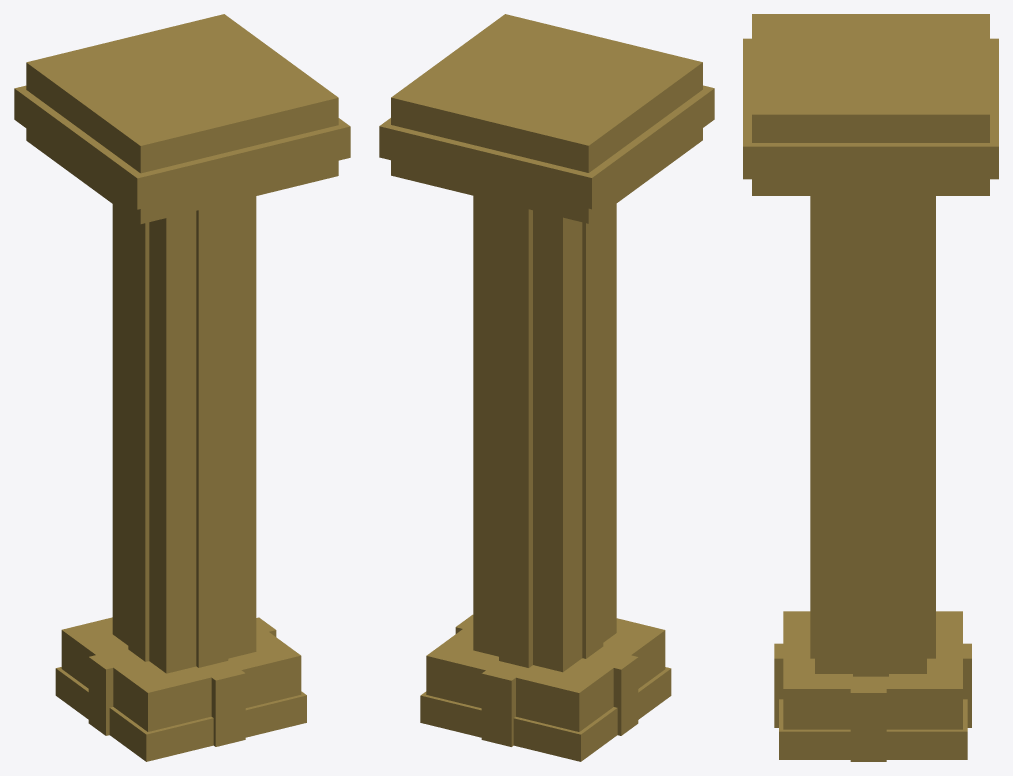
The model's file is pillar.glb.
The picture shows the model from 3 angles, left to right: view 1: azimuth 30°, elevation 25°; view 2: azimuth 150°, elevation 25°; view 3: azimuth 270°, elevation 25°; orthographic projection. The views are drawn at different scales.
Parts seen in each view (by area): view 1: group1297642777, group1275694087, group1459291806, group369833964, group539515395, group1515042559, group1484499727, group1540094723, group1602598966; view 2: group1297642777, group1275694087, group420840496, group369833964, group539515395, group1515042559, group1484499727, group2096583948, group1602598966; view 3: group1297642777, group1275694087, group147822322, group539515395, group369833964, group1484499727, group420840496, group20163112, group1459291806, group1540094723, group2096583948.
Part boxes in pixels (bbox=[...]): group1297642777: bbox=[112, 196, 256, 673]; group1275694087: bbox=[26, 14, 338, 224]; group1459291806: bbox=[196, 203, 228, 667]; group369833964: bbox=[14, 85, 350, 209]; group539515395: bbox=[61, 617, 301, 731]; group1515042559: bbox=[128, 215, 149, 661]; group1484499727: bbox=[55, 667, 306, 761]; group1540094723: bbox=[203, 670, 245, 746]; group1602598966: bbox=[88, 655, 113, 735]; group1297642777: bbox=[473, 196, 616, 672]; group1275694087: bbox=[391, 14, 702, 223]; group420840496: bbox=[499, 202, 532, 667]; group369833964: bbox=[379, 85, 714, 209]; group539515395: bbox=[426, 618, 665, 731]; group1515042559: bbox=[582, 213, 603, 658]; group1484499727: bbox=[420, 667, 671, 761]; group2096583948: bbox=[481, 670, 515, 746]; group1602598966: bbox=[613, 655, 638, 735]; group1297642777: bbox=[815, 196, 926, 673]; group1275694087: bbox=[752, 14, 989, 195]; group147822322: bbox=[853, 196, 888, 676]; group539515395: bbox=[783, 611, 962, 729]; group369833964: bbox=[743, 38, 998, 179]; group1484499727: bbox=[779, 699, 967, 759]; group420840496: bbox=[927, 196, 935, 658]; group20163112: bbox=[850, 677, 886, 761]; group1459291806: bbox=[810, 196, 814, 658]; group1540094723: bbox=[774, 643, 784, 727]; group2096583948: bbox=[963, 643, 971, 727].
Size of what is drawn, in the model's own units: 0.57 by 1.61 by 0.57.
